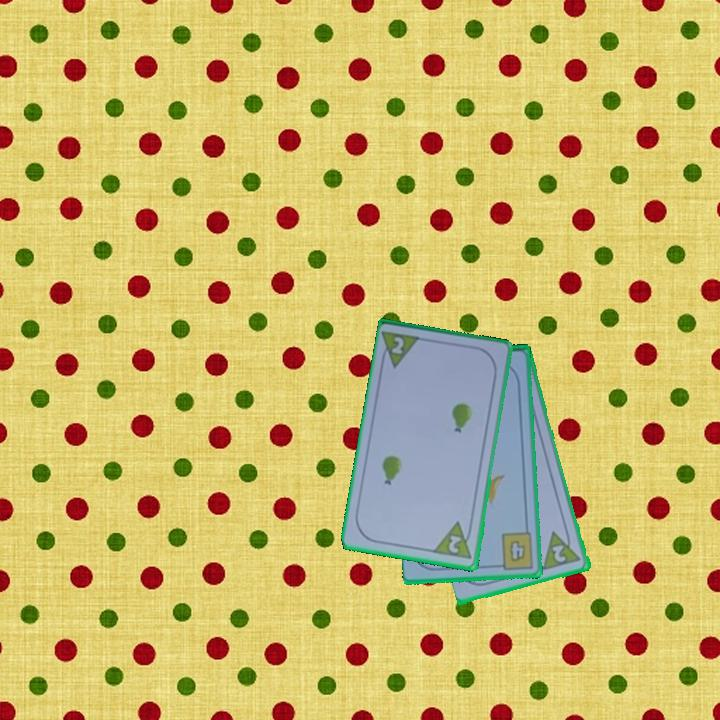2p: (430, 518, 476, 563), (549, 542, 569, 565), (388, 333, 407, 357)
4b: (493, 529, 537, 572)
